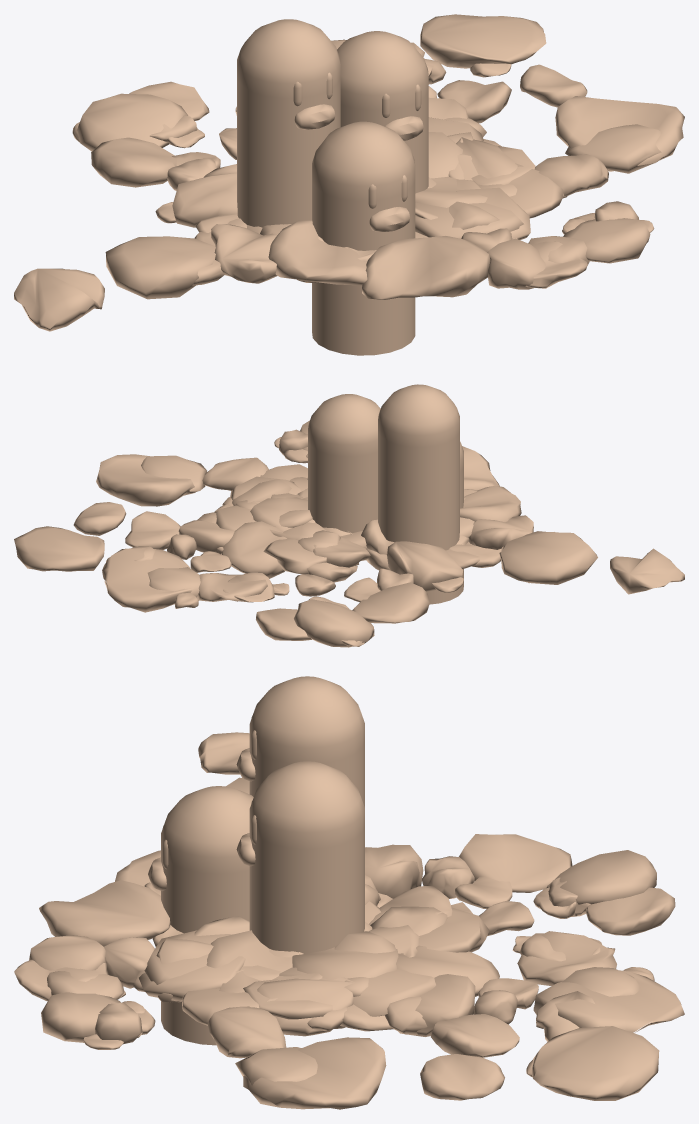
The model's file is dugtrio.glb.
The picture shows the model from 3 angles, top to bottom: view 1: azimuth 30°, elevation 25°; view 2: azimuth 150°, elevation 25°; view 3: azimuth 270°, elevation 25°; orthographic projection. The views are drawn at different scales.
Parts seen in each view (by area): view 1: Node; view 2: Node; view 3: Node.
Part boxes in pixels (x1=…): Node: x1=14, y1=14, x2=684, y2=355; Node: x1=14, y1=384, x2=684, y2=647; Node: x1=14, y1=676, x2=684, y2=1109.
Bounding box in the file's own units: 30.69 × 12.25 × 23.26.
